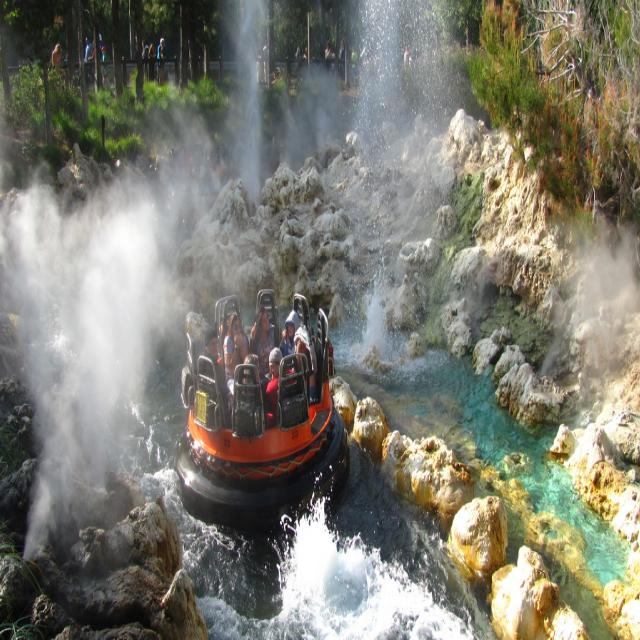Boat: (169, 293, 352, 507)
